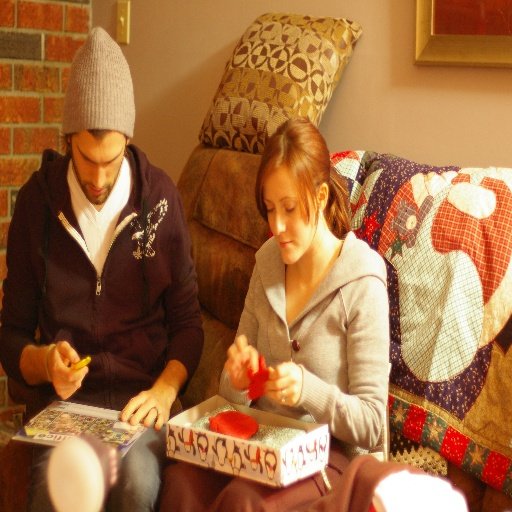hand: (112, 362, 185, 443), (46, 336, 89, 402), (223, 332, 260, 390), (264, 358, 302, 407)
